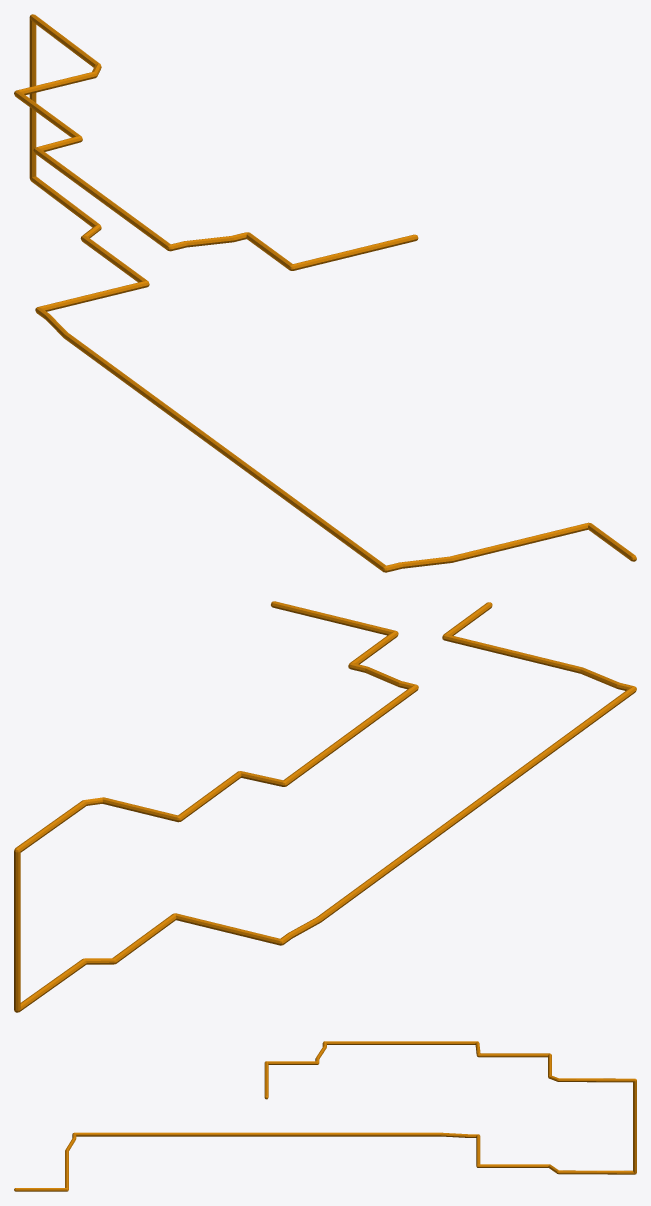
3 renders of one model, top to bottom at view 1: azimuth 30°, elevation 25°; view 2: azimuth 150°, elevation 25°; view 3: azimuth 270°, elevation 25°, orthographic. The views are drawn at different scales.
Size of the model in its own units: 662 by 520 by 3061.
